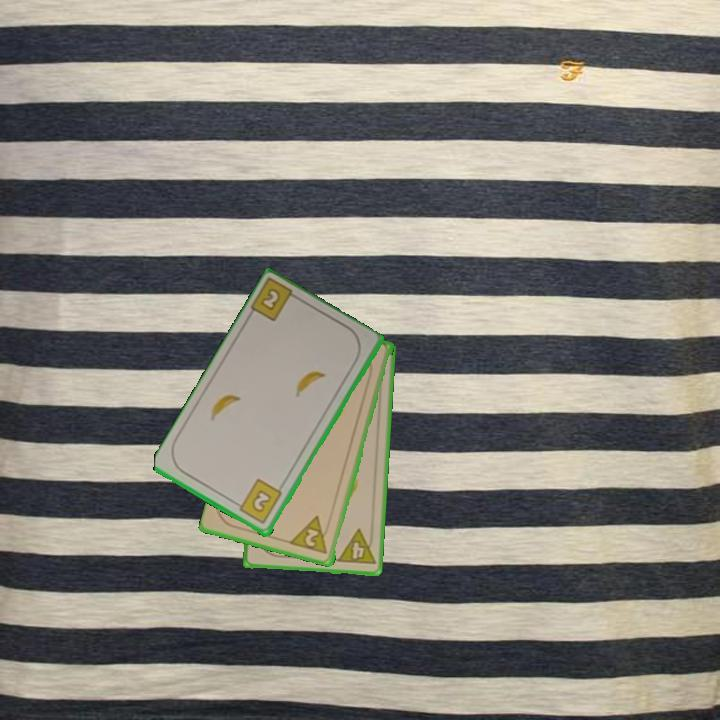2b: (231, 476, 285, 527), (248, 277, 304, 325)
2p: (288, 512, 333, 558)
4p: (334, 526, 378, 568)
